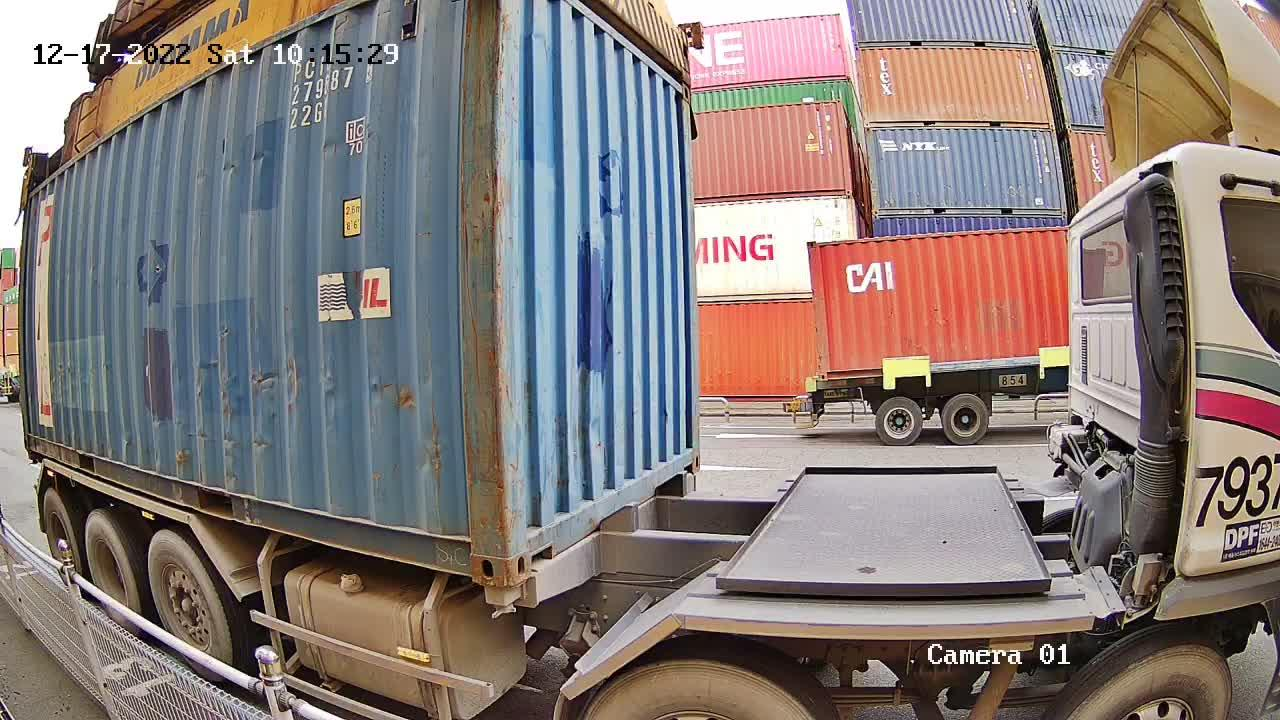Chassis: (481, 468, 697, 608)
Cone: (484, 581, 527, 623)
Hole_L: (505, 508, 548, 586)
Hole_R: (440, 511, 508, 589), (670, 430, 702, 477)
Tire: (149, 532, 233, 683), (85, 512, 142, 636), (44, 491, 82, 591)
